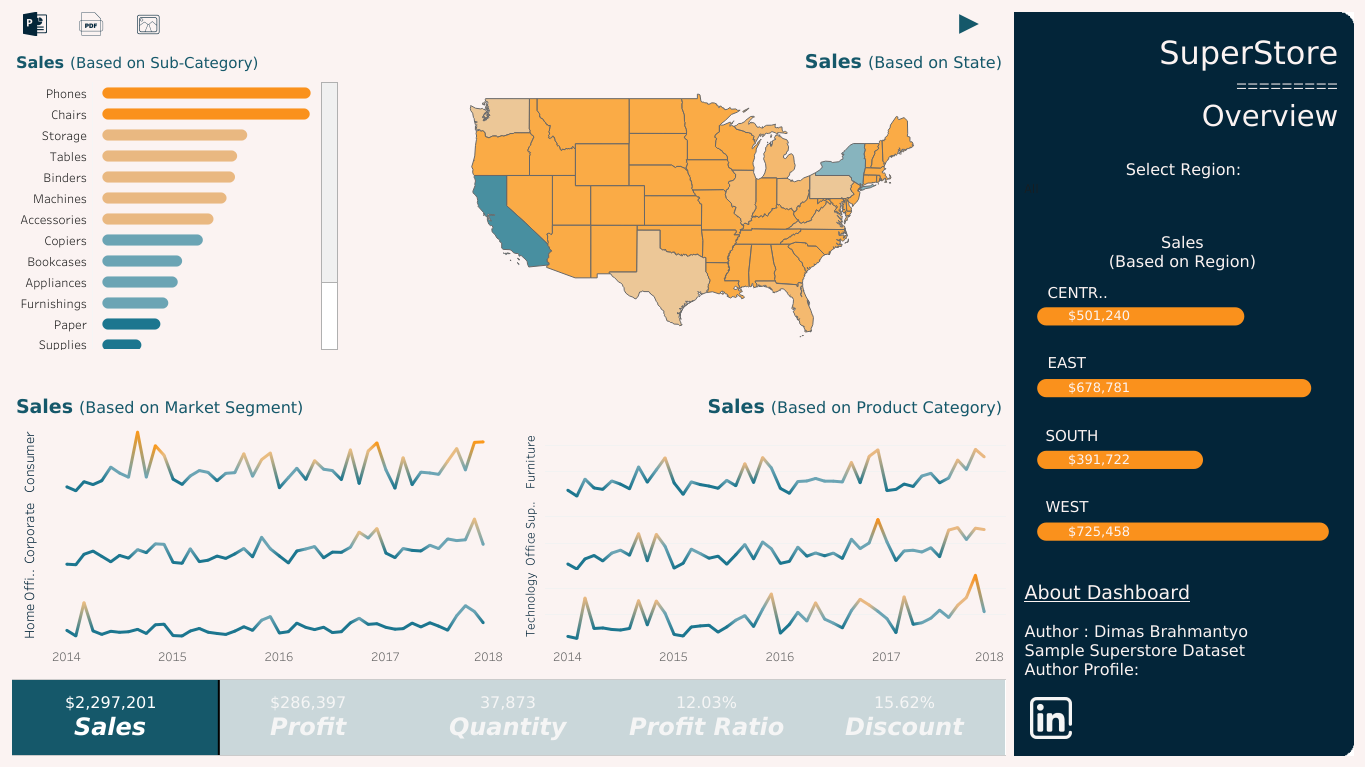

This screenshot's page, from the dashboard's own definition file:
{"tool":"tableau","page":{"name":"Dashboard 1 - Overview","canvas":[1366,768],"ordinal":0},"visuals":[{"type":"dashboard-object","box":[8,8,54,32]},{"type":"dashboard-object","box":[62,8,60,32]},{"type":"dashboard-object","box":[122,8,53,32]},{"type":"worksheet","title":"Next","mark":"Shape","rows":["Calculation_132293265469534221"],"box":[928,8,82,32]},{"type":"image","param":"Image/2.png","box":[1010,8,348,752]},{"type":"text","box":[1025,21,316,125]},{"type":"worksheet","title":"Sub Category Chart","mark":"Line","rows":["Sub-Category"],"box":[8,40,334,313]},{"type":"worksheet","title":"Based on State Map Chart","mark":"Automatic","box":[374,40,636,313]},{"type":"filter","title":"Based on State Map Chart","param":"[federated.1u37z9d020ffhv1e04nla11qurtp].[a1. Select Region Set]","box":[1022,159,323,55]},{"type":"worksheet","title":"Region Button","mark":"Line","rows":["Region"],"box":[1023,227,319,340]},{"type":"text","box":[1045,278,66,30]},{"type":"text","box":[1045,348,100,30]},{"type":"worksheet","title":"Market Segment Chart","mark":"Automatic","rows":["Segment","Calculation_1180506078081609731"],"cols":["Order Date"],"box":[8,385,501,290]},{"type":"worksheet","title":"Product Category Chart","mark":"Automatic","rows":["Category","Calculation_1180506078081609731"],"cols":["Order Date"],"box":[509,385,501,290]},{"type":"text","box":[1043,421,100,30]},{"type":"text","box":[1043,492,100,30]},{"type":"text","box":[1022,577,272,106]},{"type":"worksheet","title":"Field Button","mark":"Shape","box":[8,675,1002,85]},{"type":"worksheet","title":"LinkedIn","mark":"Shape","rows":["Calculation_1125055507973922816"],"box":[1022,691,57,53]}]}

Visuals, with their boxes in screenshot pixels (x1, y1, x2, y2), scaled from the page's 1366x768 canvas onto the 1365x767 screenshot:
dashboard-object: l=8, t=8, r=62, b=40
dashboard-object: l=62, t=8, r=122, b=40
dashboard-object: l=122, t=8, r=175, b=40
"Next" worksheet (Shape marks): l=927, t=8, r=1009, b=40
image: l=1009, t=8, r=1357, b=759
text: l=1024, t=21, r=1340, b=146
"Sub Category Chart" worksheet (Line marks): l=8, t=40, r=342, b=353
"Based on State Map Chart" worksheet: l=374, t=40, r=1009, b=353
"Based on State Map Chart" filter: l=1021, t=159, r=1344, b=214
"Region Button" worksheet (Line marks): l=1022, t=227, r=1341, b=566
text: l=1044, t=278, r=1110, b=308
text: l=1044, t=348, r=1144, b=378
"Market Segment Chart" worksheet: l=8, t=384, r=509, b=674
"Product Category Chart" worksheet: l=509, t=384, r=1009, b=674
text: l=1042, t=420, r=1142, b=450
text: l=1042, t=491, r=1142, b=521
text: l=1021, t=576, r=1293, b=682
"Field Button" worksheet (Shape marks): l=8, t=674, r=1009, b=759
"LinkedIn" worksheet (Shape marks): l=1021, t=690, r=1078, b=743
